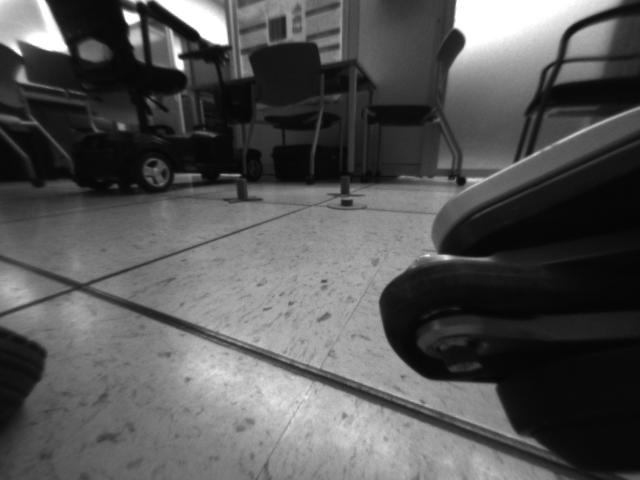X: (225, 178, 263, 205), (327, 175, 364, 198)
